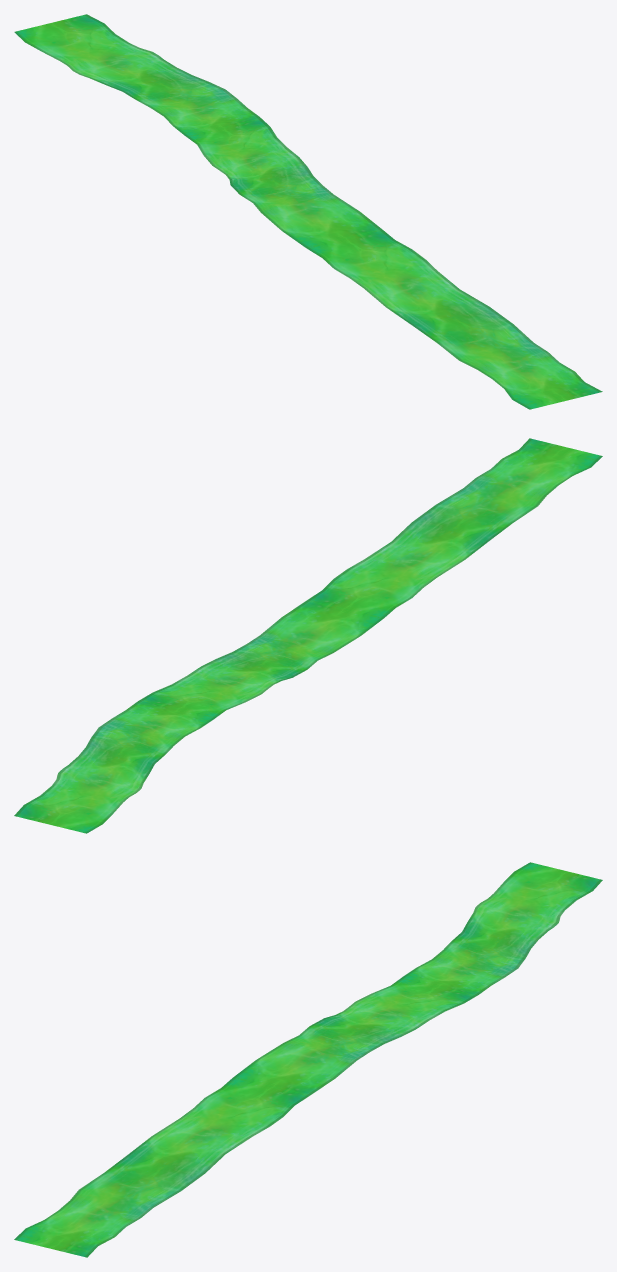
The model's file is Amazon01_Lu01.FBX.
3 views of the same model, one above another, from view 1: azimuth 30°, elevation 25°; view 2: azimuth 150°, elevation 25°; view 3: azimuth 330°, elevation 25° (orthographic).
Visible parts, largest first — view 1: Amazon01_Lu01; view 2: Amazon01_Lu01; view 3: Amazon01_Lu01.
Part boxes in pixels (<box>): Amazon01_Lu01: <box>14,14,602,409</box>; Amazon01_Lu01: <box>14,438,602,833</box>; Amazon01_Lu01: <box>14,862,602,1257</box>.
Bounding box in the file's own units: 1377 × 9.09e-13 × 11939.
